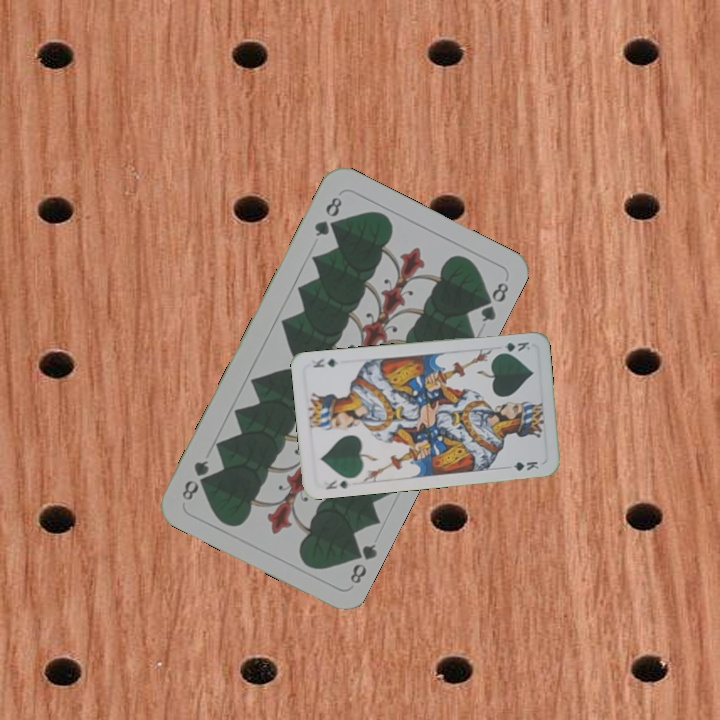G8: (344, 539, 380, 587), (310, 192, 345, 239)
GK: (494, 338, 533, 356), (322, 476, 351, 492)
